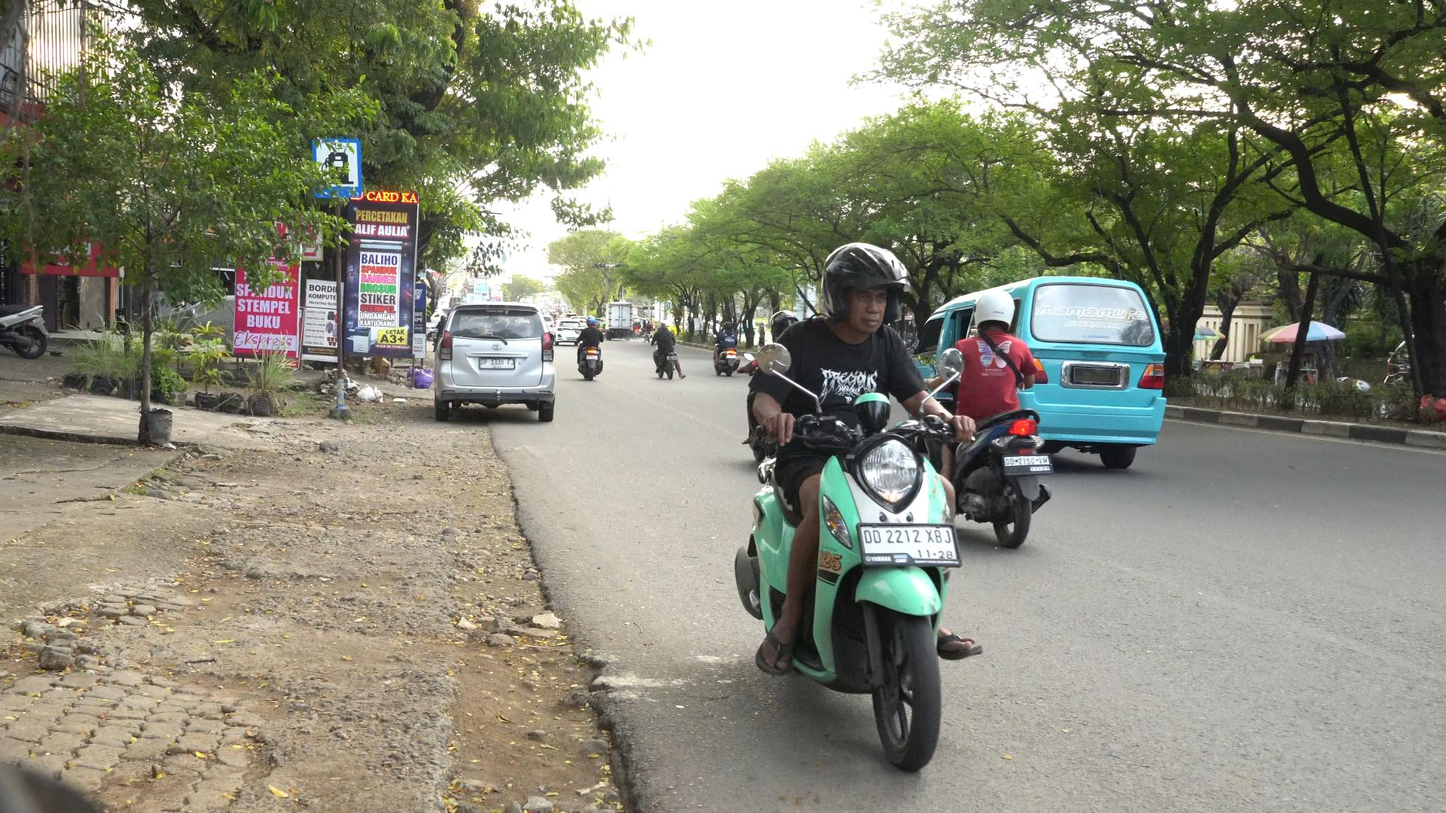number-plate: (854, 513, 964, 564)
